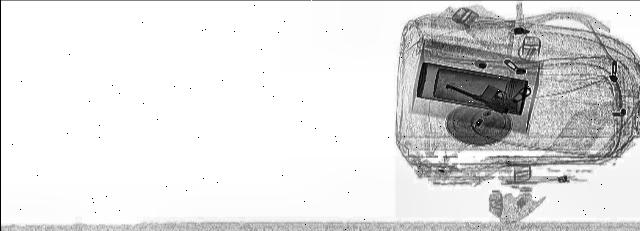Gun: (434, 72, 558, 114)
